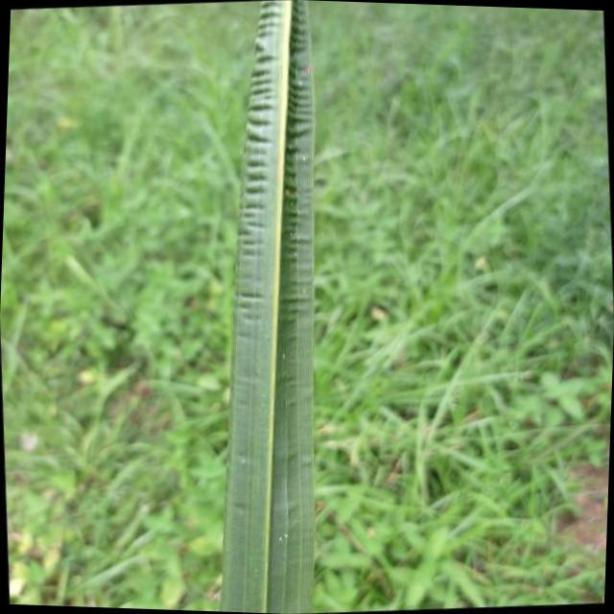Boron: (224, 0, 318, 614)
